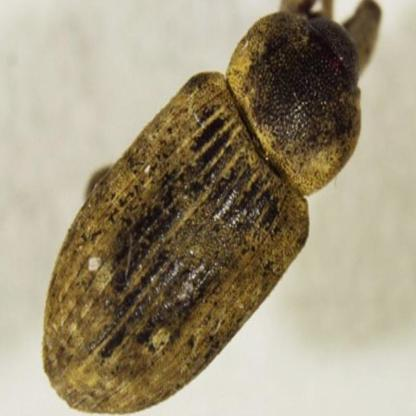rice-bug: (42, 0, 383, 415)
